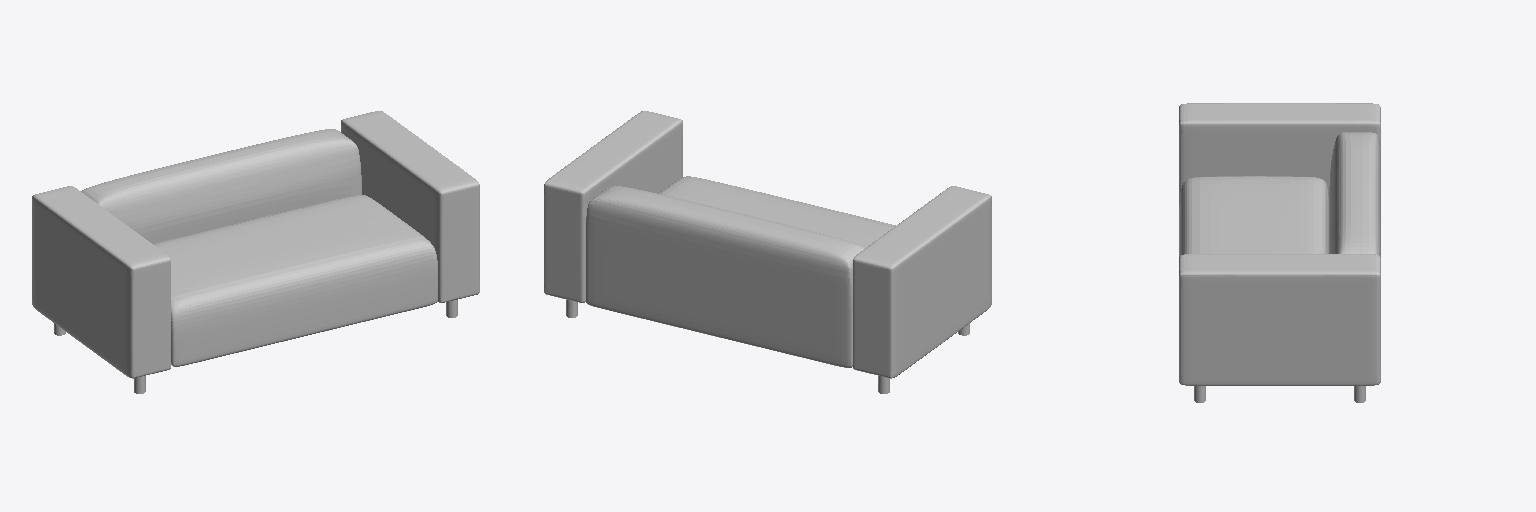
Rendered from redSquareSofa.obj.
The picture shows the model from 3 angles: view 1: azimuth 30°, elevation 25°; view 2: azimuth 150°, elevation 25°; view 3: azimuth 270°, elevation 25°; orthographic projection.
Visible parts, largest first — view 1: Body_Body2.001; view 2: Body_Body2.001; view 3: Body_Body2.001.
Part boxes in pixels (x1,y1,x2,y2): Body_Body2.001: (32, 111, 479, 393); Body_Body2.001: (544, 111, 991, 393); Body_Body2.001: (1179, 103, 1380, 402).
Size of the model in its own units: 1.77 by 0.66 by 0.8801.